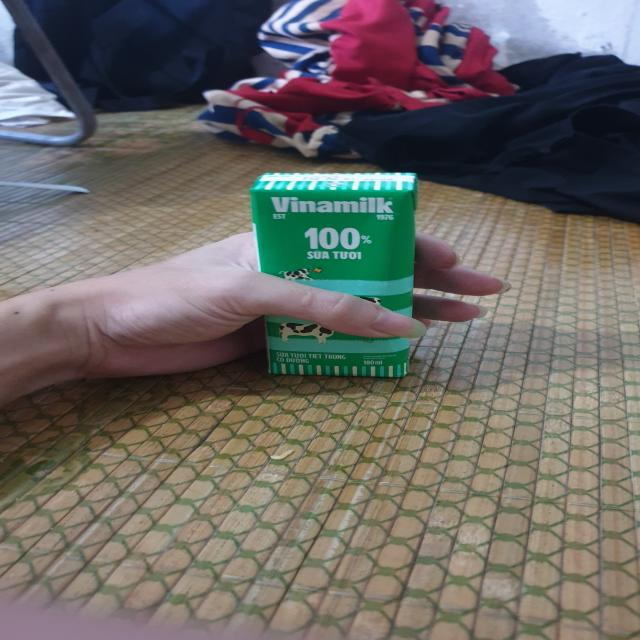Vina: (249, 165, 430, 384)
